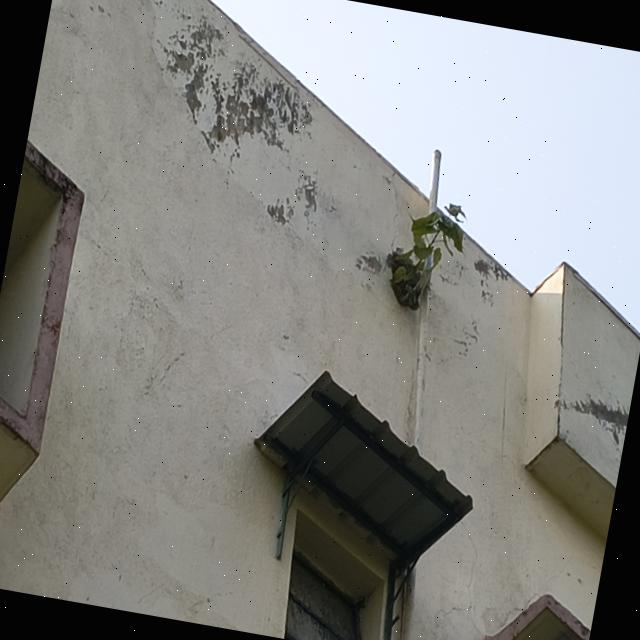Paint Peeling: (142, 0, 313, 164), (560, 398, 629, 444), (265, 175, 317, 226), (473, 257, 510, 306), (355, 253, 386, 274)
